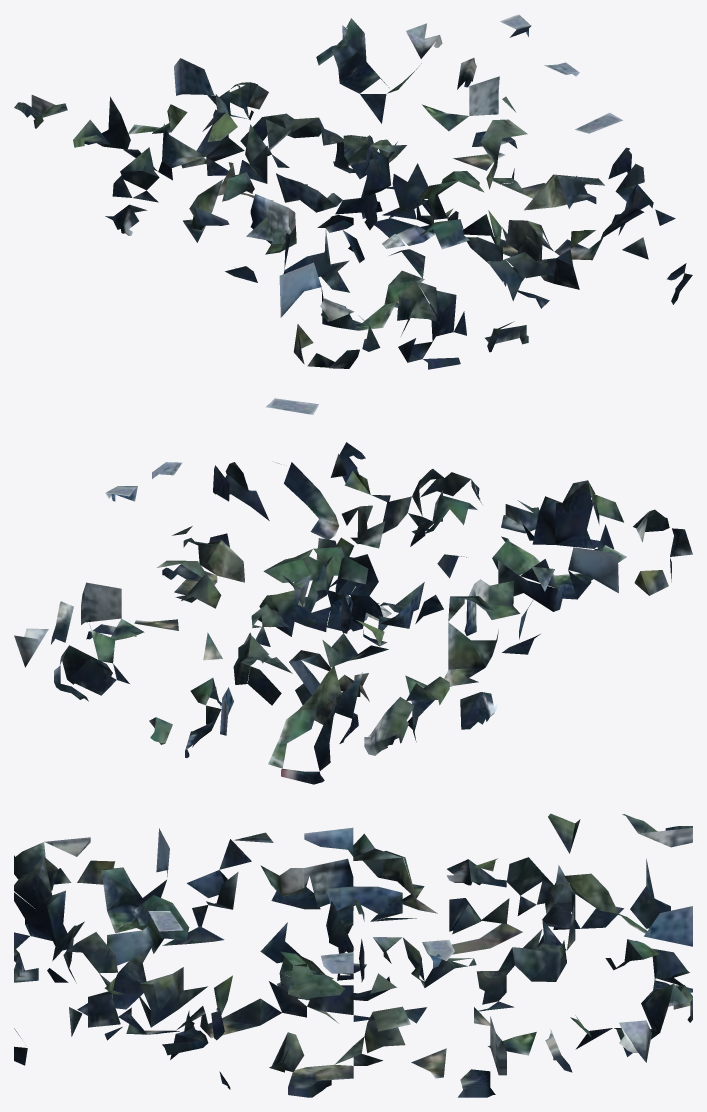
3 views of the same model, one above another, from view 1: azimuth 30°, elevation 25°; view 2: azimuth 150°, elevation 25°; view 3: azimuth 270°, elevation 25° (orthographic). The views are drawn at different scales.
Visible parts, largest first — view 1: 304362727043704165_1; view 2: 304362727043704165_1; view 3: 304362727043704165_1.
Boxes of the visible parts, x1,y1,x2,y2 form: 304362727043704165_1: (14, 14, 692, 369); 304362727043704165_1: (14, 398, 692, 784); 304362727043704165_1: (14, 813, 692, 1097).
Size of the model in its own units: 111 by 37.61 by 153.
Materials: 1 (1 with a texture image).
